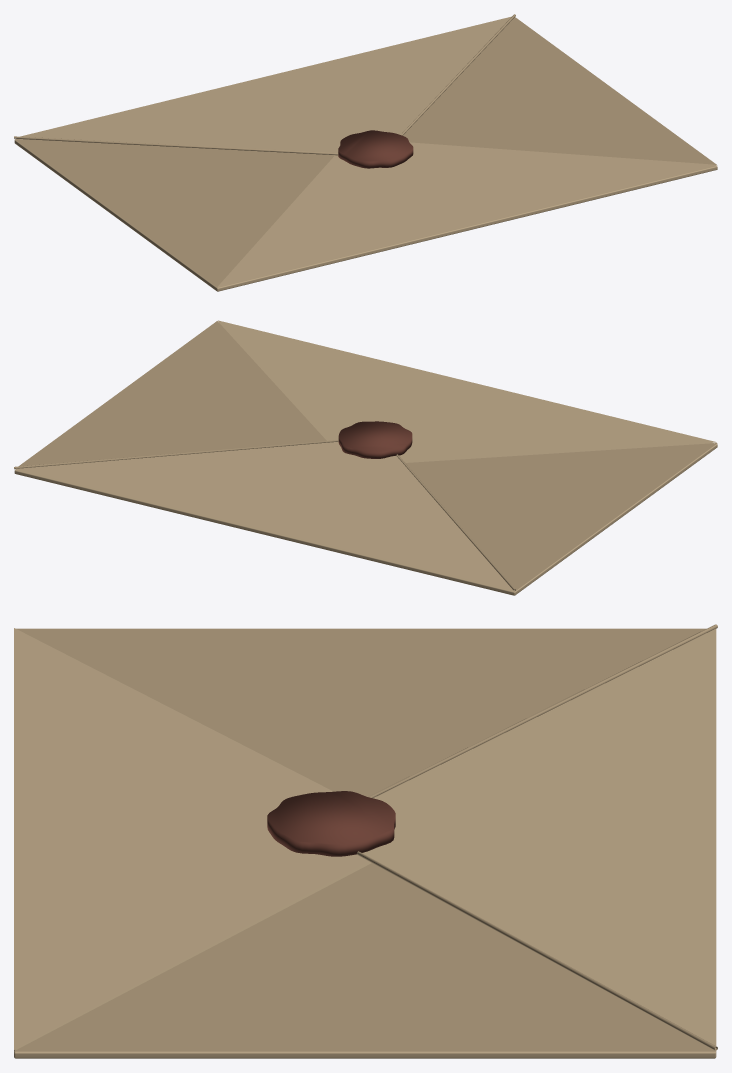
File: envelope.glb
The picture shows the model from 3 angles, top to bottom: view 1: azimuth 30°, elevation 25°; view 2: azimuth 150°, elevation 25°; view 3: azimuth 270°, elevation 25°; orthographic projection. The views are drawn at different scales.
Parts seen in each view (by area): view 1: envelope / Natural fibrous kraft paper, envelope / Kraft folded edge, envelope / Restrained oxblood sealing wax; view 2: envelope / Natural fibrous kraft paper, envelope / Kraft folded edge, envelope / Restrained oxblood sealing wax; view 3: envelope / Natural fibrous kraft paper, envelope / Kraft folded edge, envelope / Restrained oxblood sealing wax.
Boxes of the visible parts, x1,y1,x2,y2 form: envelope / Natural fibrous kraft paper: [14, 16, 717, 291]; envelope / Kraft folded edge: [14, 14, 717, 287]; envelope / Restrained oxblood sealing wax: [338, 130, 413, 168]; envelope / Natural fibrous kraft paper: [14, 320, 717, 595]; envelope / Kraft folded edge: [14, 321, 717, 591]; envelope / Restrained oxblood sealing wax: [338, 421, 412, 458]; envelope / Natural fibrous kraft paper: [14, 628, 716, 1058]; envelope / Kraft folded edge: [14, 624, 717, 1051]; envelope / Restrained oxblood sealing wax: [267, 791, 395, 856].
Size of the model in its own units: 3.71 by 0.1215 by 2.61.
